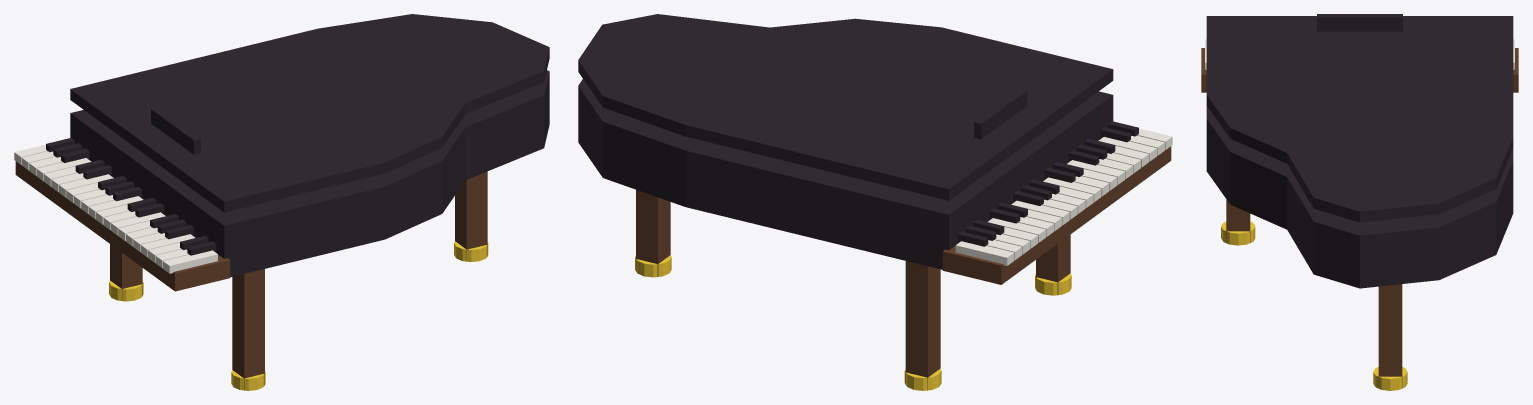
The model's file is piano.glb.
3 views of the same model, side by side, from view 1: azimuth 30°, elevation 25°; view 2: azimuth 150°, elevation 25°; view 3: azimuth 270°, elevation 25° (orthographic). The views are drawn at different scales.
Parts seen in each view (by area): view 1: Raised_grand_lid, Grand_body, Keyboard_bed, Piano_leg, Piano_leg.002, Music_stand, Piano_leg.001, White_key_00, Brass_foot.001, Brass_foot, Brass_foot.002; view 2: Raised_grand_lid, Grand_body, Piano_leg.001, Keyboard_bed, Piano_leg.002, Music_stand, Piano_leg, White_key_20, Brass_foot.001, Brass_foot.002, Brass_foot; view 3: Raised_grand_lid, Grand_body, Piano_leg.002, Music_stand, Piano_leg, Brass_foot.002, Brass_foot, Keyboard_bed.
Part boxes in pixels (<box>): Raised_grand_lid: <box>70,14,549,212</box>; Grand_body: <box>70,70,549,277</box>; Keyboard_bed: <box>15,161,230,291</box>; Piano_leg: <box>232,269,264,390</box>; Piano_leg.002: <box>455,171,487,261</box>; Music_stand: <box>151,107,200,154</box>; Piano_leg.001: <box>110,244,142,300</box>; White_key_00: <box>163,250,217,273</box>; Brass_foot.001: <box>109,280,143,301</box>; Brass_foot: <box>231,370,265,390</box>; Brass_foot.002: <box>454,241,488,261</box>; Raised_grand_lid: <box>578,14,1113,200</box>; Grand_body: <box>578,79,1113,269</box>; Piano_leg.001: <box>905,261,940,390</box>; Keyboard_bed: <box>942,146,1171,284</box>; Piano_leg.002: <box>636,190,670,276</box>; Music_stand: <box>974,89,1027,139</box>; Piano_leg: <box>1036,234,1070,294</box>; White_key_20: <box>955,241,1014,265</box>; Brass_foot.001: <box>904,368,941,390</box>; Brass_foot.002: <box>635,255,671,277</box>; Brass_foot: <box>1035,273,1071,295</box>; Raised_grand_lid: <box>1206,16,1513,222</box>; Grand_body: <box>1206,106,1513,288</box>; Piano_leg.002: <box>1378,284,1402,388</box>; Music_stand: <box>1317,14,1402,31</box>; Piano_leg: <box>1226,199,1250,242</box>; Brass_foot.002: <box>1373,367,1407,390</box>; Brass_foot: <box>1221,221,1255,245</box>; Keyboard_bed: <box>1201,48,1518,92</box>.
Bounding box in the file's own units: 3.98 × 1.81 × 2.4.
